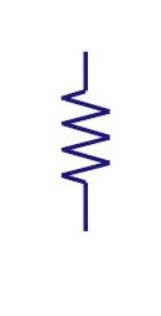resistor: (50, 65, 119, 202)
